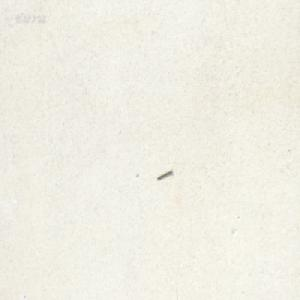Bolt: (156, 167, 172, 179)
